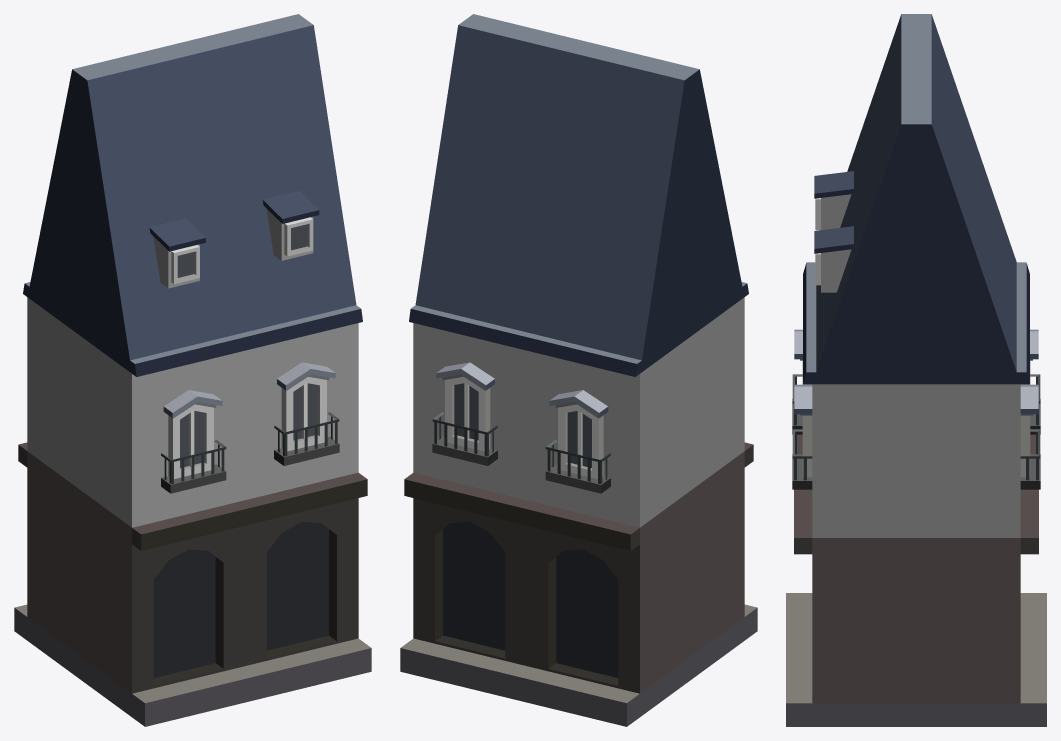
File: TB_CITY_BD_T_Line_2_B.FBX
3 renders of one model, left to right at view 1: azimuth 30°, elevation 25°; view 2: azimuth 150°, elevation 25°; view 3: azimuth 270°, elevation 25°, orthographic.
Visible parts, largest first — view 1: TB_CITY_BD_T_Line_2_B; view 2: TB_CITY_BD_T_Line_2_B; view 3: TB_CITY_BD_T_Line_2_B.
Part boxes in pixels (bbox=[...]): TB_CITY_BD_T_Line_2_B: bbox=[14, 14, 371, 726]; TB_CITY_BD_T_Line_2_B: bbox=[400, 14, 757, 726]; TB_CITY_BD_T_Line_2_B: bbox=[786, 14, 1046, 726].
Size of the model in its own units: 7.99 by 20.37 by 7.99.
